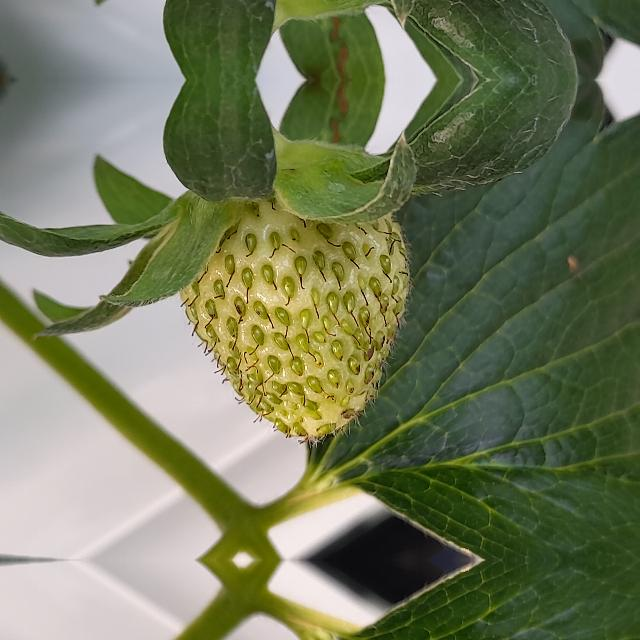Health_25: (182, 195, 414, 449)
